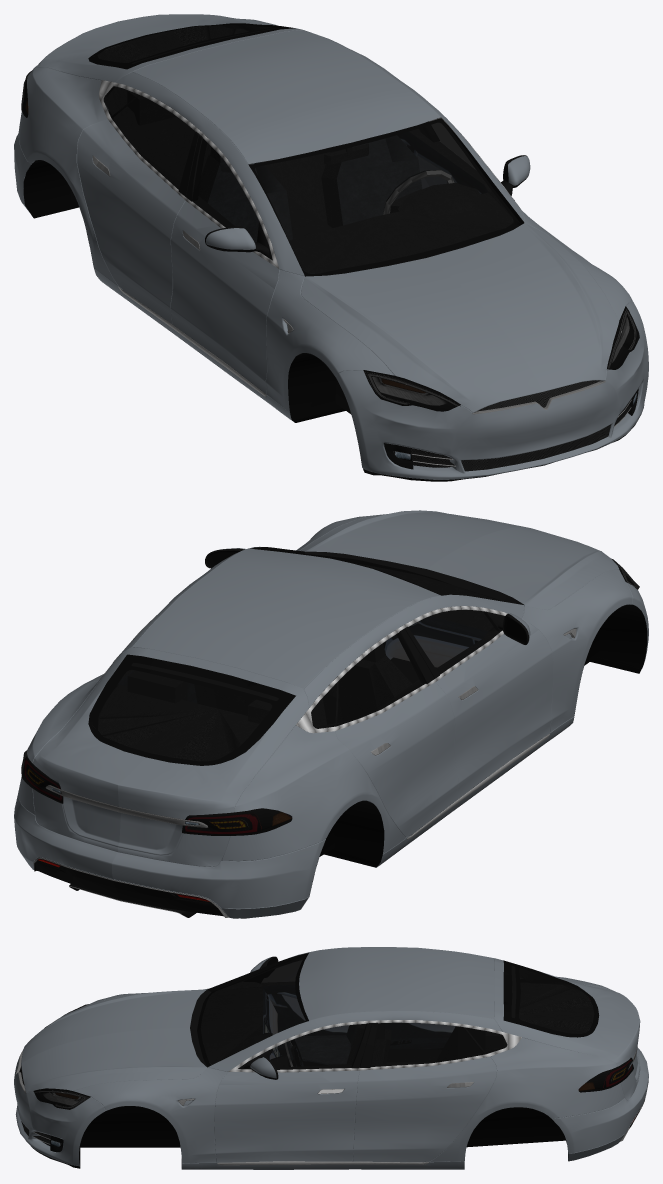
Rendered from tesla_body.FBX.
3 renders of one model, top to bottom at view 1: azimuth 30°, elevation 25°; view 2: azimuth 150°, elevation 25°; view 3: azimuth 270°, elevation 25°, orthographic. The views are drawn at different scales.
Visible parts, largest first — view 1: carbody, glass, Object001, f_lights, s_wheel, f_glow; view 2: carbody, glass, glass_l; view 3: carbody, glass, Object001, glass_l, s_wheel.
Part boxes in pixels (x1,y1,x2,y2): carbody: (14,14,648,481); glass: (98,25,513,273); Object001: (363,306,639,411); f_lights: (372,318,636,460); s_wheel: (383,170,453,214); f_glow: (366,309,636,406); carbody: (14,510,648,918); glass: (98,550,499,761); glass_l: (21,750,292,835); carbody: (14,947,648,1169); glass: (200,955,594,1069); Object001: (34,1004,90,1109); glass_l: (578,1057,633,1092); s_wheel: (271,1039,303,1066).
Size of the model in its own units: 23.4 by 13.84 by 54.62.
